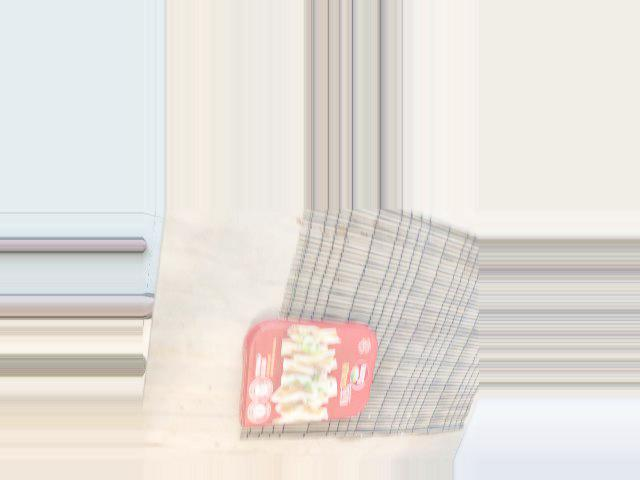cheese: (219, 321, 381, 436)
